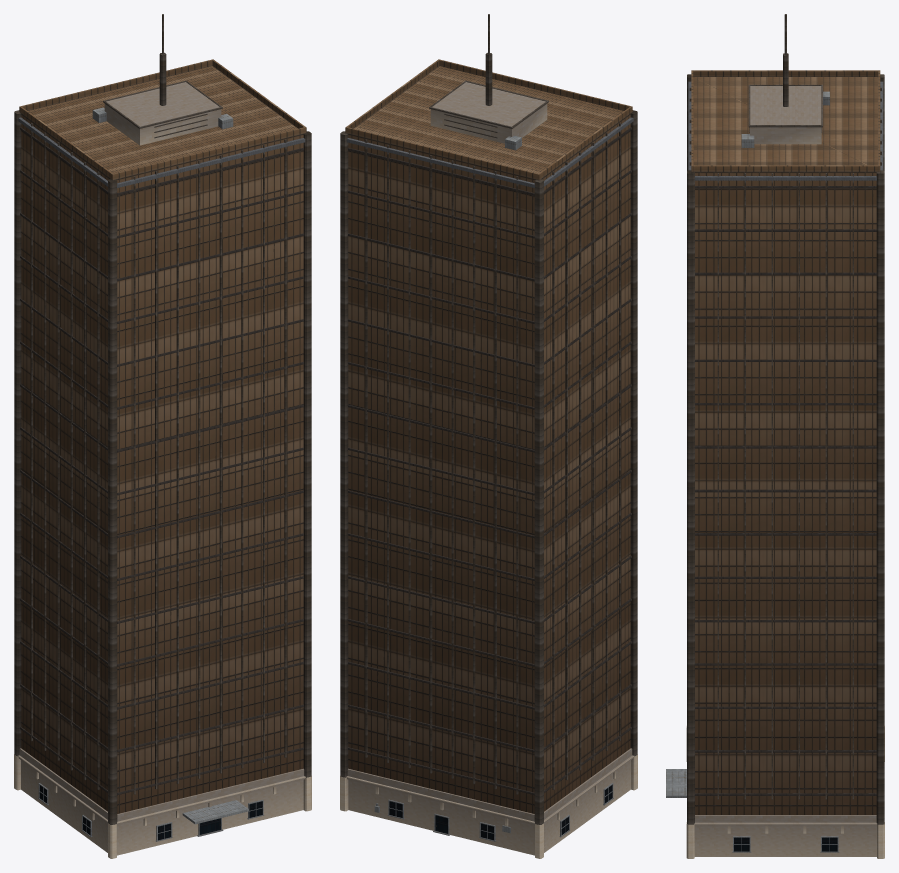
Rendered from jefferson-court-tower_lod0.gltf.
The picture shows the model from 3 angles, left to right: view 1: azimuth 30°, elevation 25°; view 2: azimuth 150°, elevation 25°; view 3: azimuth 270°, elevation 25°; orthographic projection.
Visible parts, largest first — view 1: jefferson-court-tower_upper, jefferson-court-tower__v4_metal_detail, jefferson-court-tower__v4_stone_detail, jefferson-court-tower_base, jefferson-court-tower__cornice, jefferson-court-tower__parapet_front, jefferson-court-tower__parapet_back, jefferson-court-tower_fen_07-glass-curtain-blue_1_t, jefferson-court-tower__canopy, jefferson-court-tower__parapet_left, jefferson-court-tower__parapet_right; view 2: jefferson-court-tower_upper, jefferson-court-tower__v4_metal_detail, jefferson-court-tower__v4_stone_detail, jefferson-court-tower_base, jefferson-court-tower__cornice, jefferson-court-tower__parapet_back, jefferson-court-tower__parapet_front, jefferson-court-tower_fen_07-glass-curtain-blue_1_t, jefferson-court-tower_fen_14-steel-panel_0, jefferson-court-tower__parapet_left, jefferson-court-tower__parapet_right; view 3: jefferson-court-tower_upper, jefferson-court-tower__v4_metal_detail, jefferson-court-tower__v4_stone_detail, jefferson-court-tower_base, jefferson-court-tower__cornice, jefferson-court-tower__parapet_right, jefferson-court-tower__parapet_left, jefferson-court-tower__canopy, jefferson-court-tower_fen_07-glass-curtain-blue_1_t.
Part boxes in pixels (left/top/right/bottom): jefferson-court-tower_upper: left=21, top=66, right=303, bottom=813; jefferson-court-tower__v4_metal_detail: left=14, top=14, right=311, bottom=824; jefferson-court-tower__v4_stone_detail: left=14, top=82, right=311, bottom=858; jefferson-court-tower_base: left=21, top=760, right=303, bottom=855; jefferson-court-tower__cornice: left=18, top=117, right=305, bottom=187; jefferson-court-tower__parapet_front: left=111, top=127, right=306, bottom=180; jefferson-court-tower__parapet_back: left=19, top=59, right=213, bottom=112; jefferson-court-tower_fen_07-glass-curtain-blue_1_t: left=39, top=785, right=262, bottom=840; jefferson-court-tower__canopy: left=182, top=800, right=248, bottom=824; jefferson-court-tower__parapet_left: left=20, top=107, right=112, bottom=179; jefferson-court-tower__parapet_right: left=212, top=60, right=305, bottom=128; jefferson-court-tower_upper: left=348, top=66, right=630, bottom=813; jefferson-court-tower__v4_metal_detail: left=340, top=14, right=637, bottom=824; jefferson-court-tower__v4_stone_detail: left=340, top=82, right=637, bottom=858; jefferson-court-tower_base: left=348, top=760, right=630, bottom=855; jefferson-court-tower__cornice: left=346, top=117, right=633, bottom=187; jefferson-court-tower__parapet_back: left=345, top=127, right=540, bottom=180; jefferson-court-tower__parapet_front: left=438, top=59, right=632, bottom=112; jefferson-court-tower_fen_07-glass-curtain-blue_1_t: left=389, top=785, right=612, bottom=840; jefferson-court-tower_fen_14-steel-panel_0: left=374, top=783, right=613, bottom=841; jefferson-court-tower__parapet_left: left=539, top=107, right=631, bottom=179; jefferson-court-tower__parapet_right: left=346, top=60, right=439, bottom=128; jefferson-court-tower_upper: left=693, top=77, right=878, bottom=814; jefferson-court-tower__v4_metal_detail: left=687, top=14, right=884, bottom=824; jefferson-court-tower__v4_stone_detail: left=686, top=86, right=884, bottom=858; jefferson-court-tower_base: left=694, top=826, right=876, bottom=856; jefferson-court-tower__cornice: left=688, top=81, right=883, bottom=180; jefferson-court-tower__parapet_right: left=693, top=165, right=878, bottom=171; jefferson-court-tower__parapet_left: left=693, top=70, right=878, bottom=76; jefferson-court-tower__canopy: left=666, top=769, right=686, bottom=797; jefferson-court-tower_fen_07-glass-curtain-blue_1_t: left=734, top=837, right=837, bottom=851.
Size of the model in its own units: 37.44 by 139 by 34.72.
